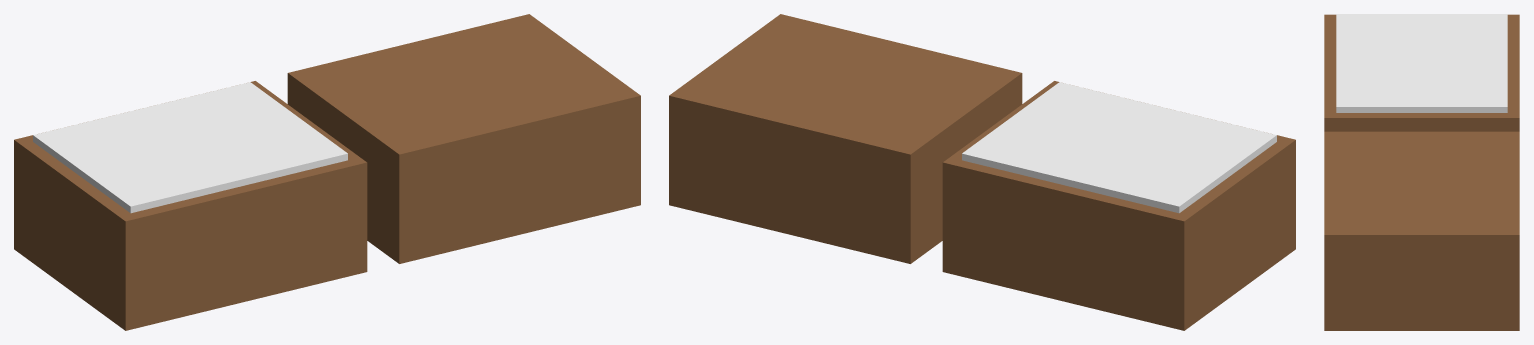
File: compost-bins.glb
3 views of the same model, side by side, from view 1: azimuth 30°, elevation 25°; view 2: azimuth 150°, elevation 25°; view 3: azimuth 270°, elevation 25° (orthographic). The views are drawn at different scales.
Visible parts, largest first — view 1: Compost bin.001, Compost bin, Compost fill; view 2: Compost bin.001, Compost bin, Compost fill; view 3: Compost bin.001, Compost fill, Compost bin.
Part boxes in pixels (bbox=[...]): Compost bin.001: bbox=[287, 14, 640, 263]; Compost bin: bbox=[14, 81, 367, 330]; Compost fill: bbox=[33, 82, 347, 213]; Compost bin.001: bbox=[669, 14, 1022, 263]; Compost bin: bbox=[942, 81, 1295, 330]; Compost fill: bbox=[962, 82, 1276, 213]; Compost bin.001: bbox=[1324, 131, 1519, 330]; Compost fill: bbox=[1336, 14, 1507, 112]; Compost bin: bbox=[1324, 14, 1519, 131].
Bounding box in the file's own units: 6.4 × 1.38 × 2.4.
